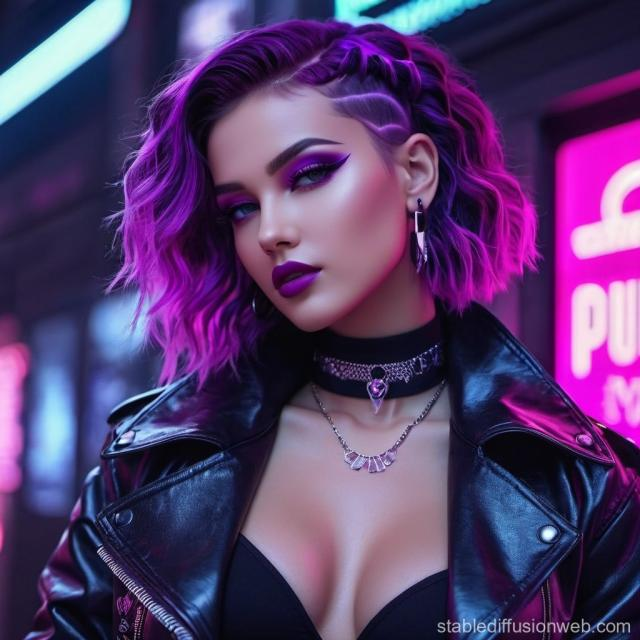front: (222, 134, 378, 308)
